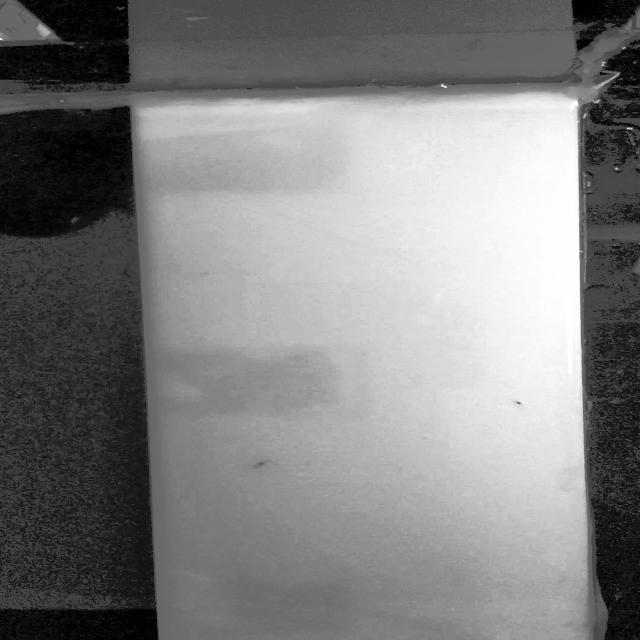shrimp: (502, 393, 536, 417), (239, 454, 279, 474)
